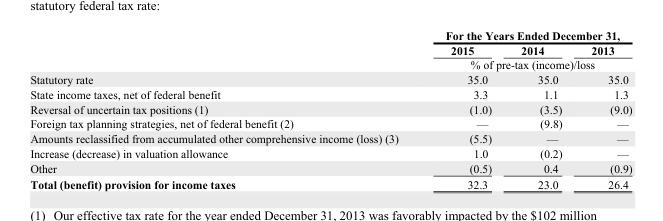table: (29, 28, 631, 190)
table column: (29, 28, 421, 190), (421, 28, 505, 190), (505, 28, 576, 190), (576, 28, 631, 190)
table column header: (29, 28, 631, 71)
table row: (29, 42, 631, 57), (29, 71, 631, 86), (29, 86, 631, 101), (29, 101, 631, 116), (29, 130, 631, 145), (29, 145, 631, 160), (29, 160, 631, 175), (29, 175, 631, 190), (29, 28, 631, 42), (29, 57, 631, 71), (29, 116, 631, 130)
table spanning cell: (421, 28, 631, 42), (421, 57, 631, 71)
